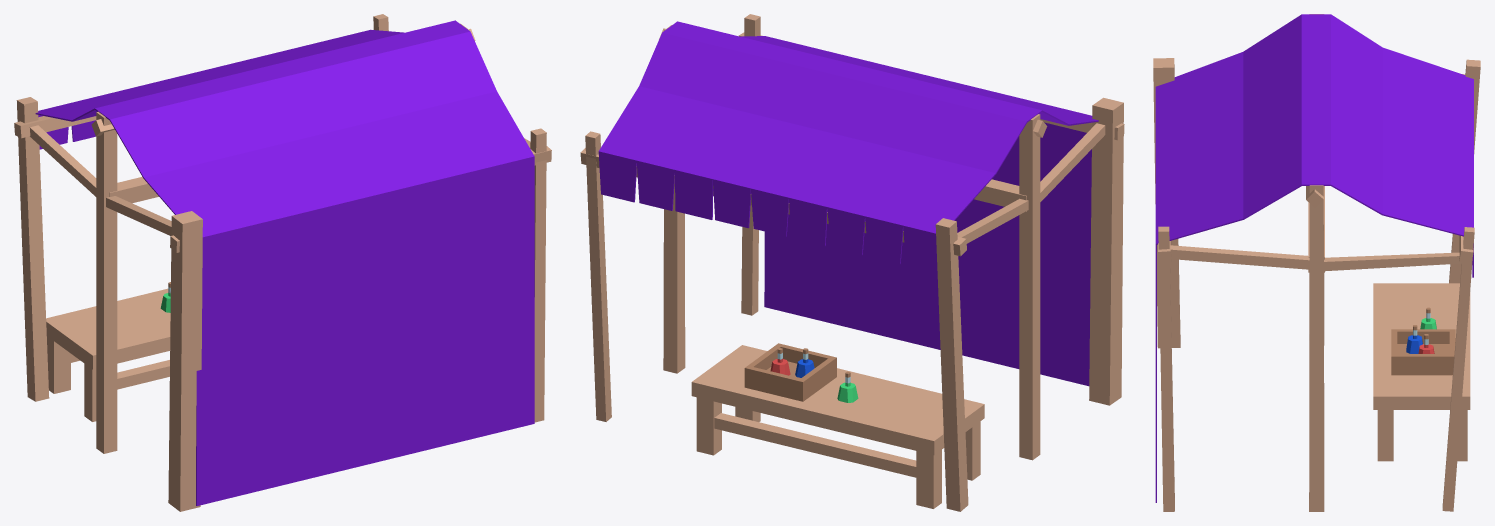
Rendered from Market.fbx.
The picture shows the model from 3 angles, left to right: view 1: azimuth 30°, elevation 25°; view 2: azimuth 150°, elevation 25°; view 3: azimuth 270°, elevation 25°; orthographic projection. The views are drawn at different scales.
Parts seen in each view (by area): view 1: Market; view 2: Market; view 3: Market.
Part boxes in pixels (box(x1,y1,x2,y2)): Market: box(14, 14, 551, 511); Market: box(580, 14, 1124, 511); Market: box(1153, 14, 1480, 511).
Bounding box in the file's own units: 1.4 × 1.2 × 1.09.
